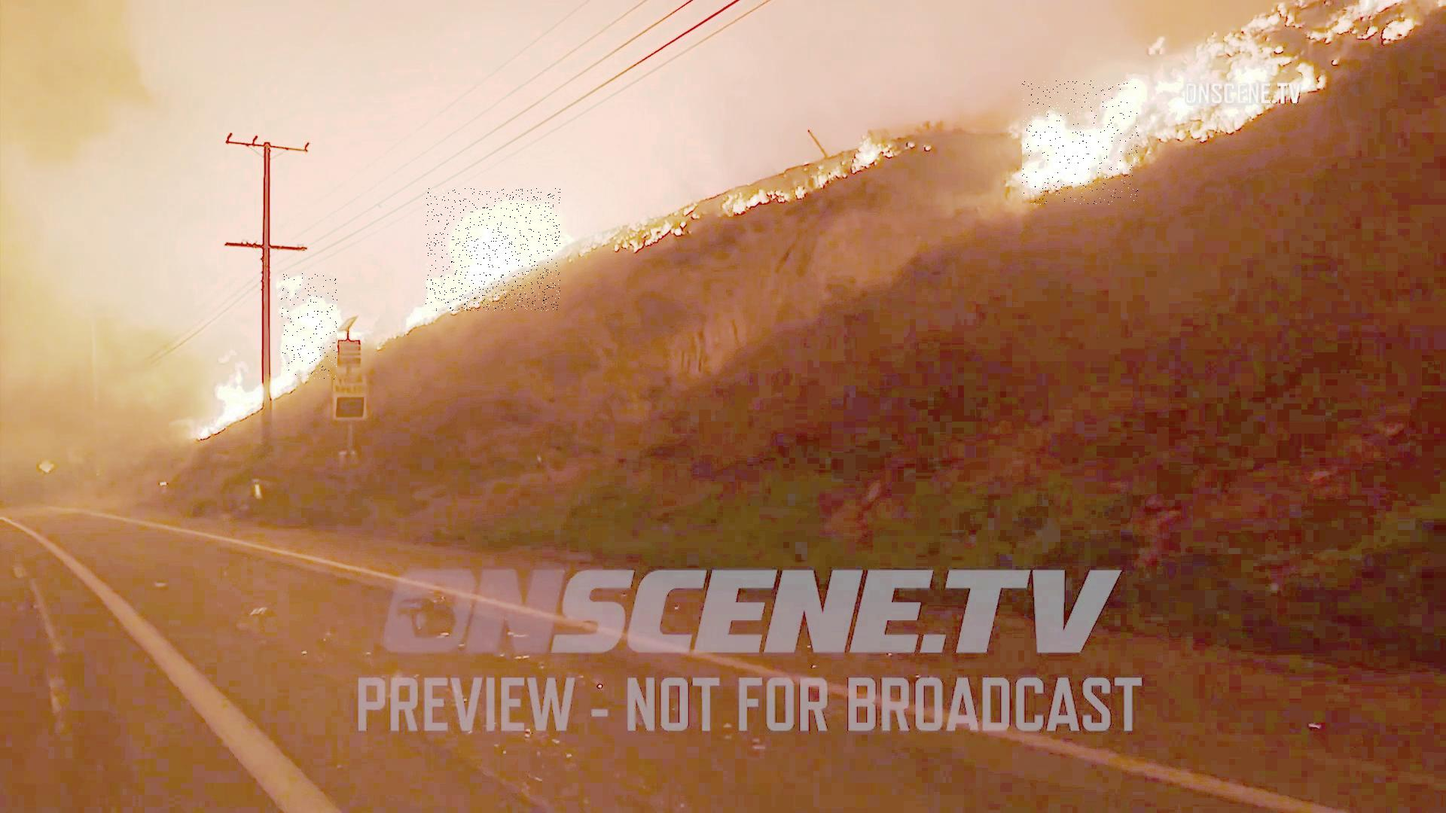fire: (426, 188, 561, 311), (1023, 81, 1139, 205), (281, 273, 337, 380)
